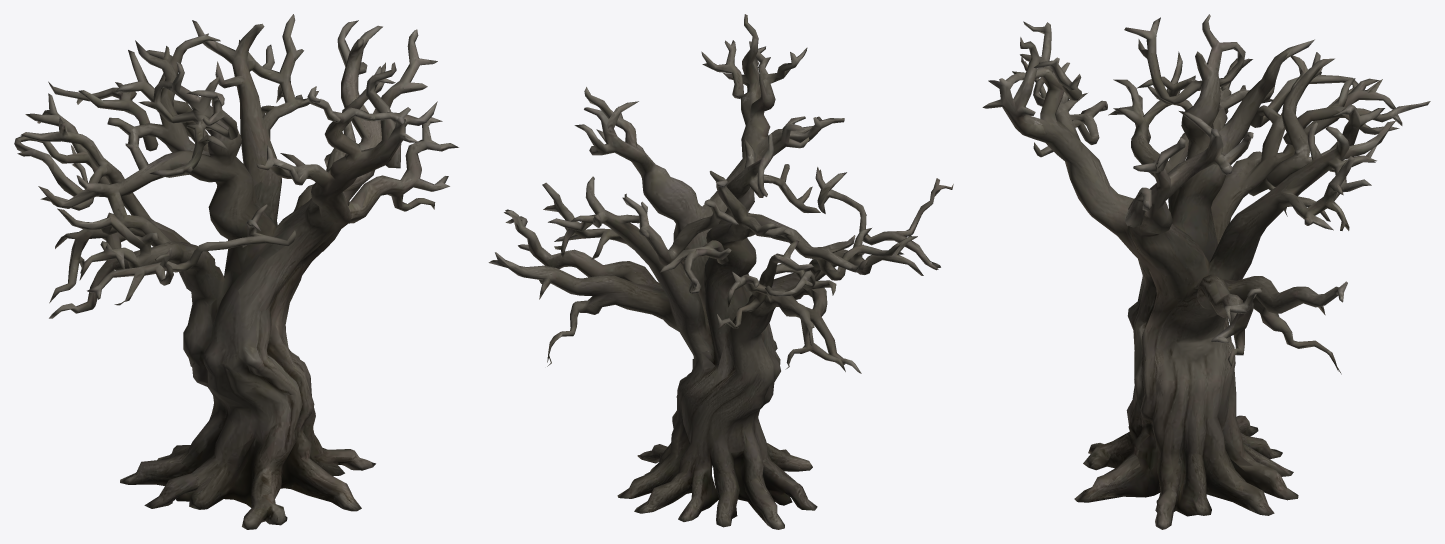
The model's file is oak.opt.glb.
3 renders of one model, left to right at view 1: azimuth 30°, elevation 25°; view 2: azimuth 150°, elevation 25°; view 3: azimuth 270°, elevation 25°, orthographic. The views are drawn at different scales.
Visible parts, largest first — view 1: node_0; view 2: node_0; view 3: node_0.
Boxes of the visible parts, x1,y1,x2,y2 form: node_0: (14, 14, 458, 529); node_0: (488, 14, 953, 529); node_0: (982, 14, 1430, 529).
Bounding box in the file's own units: 0.9334 × 0.9566 × 0.8315.
1 material, 1 textured.
